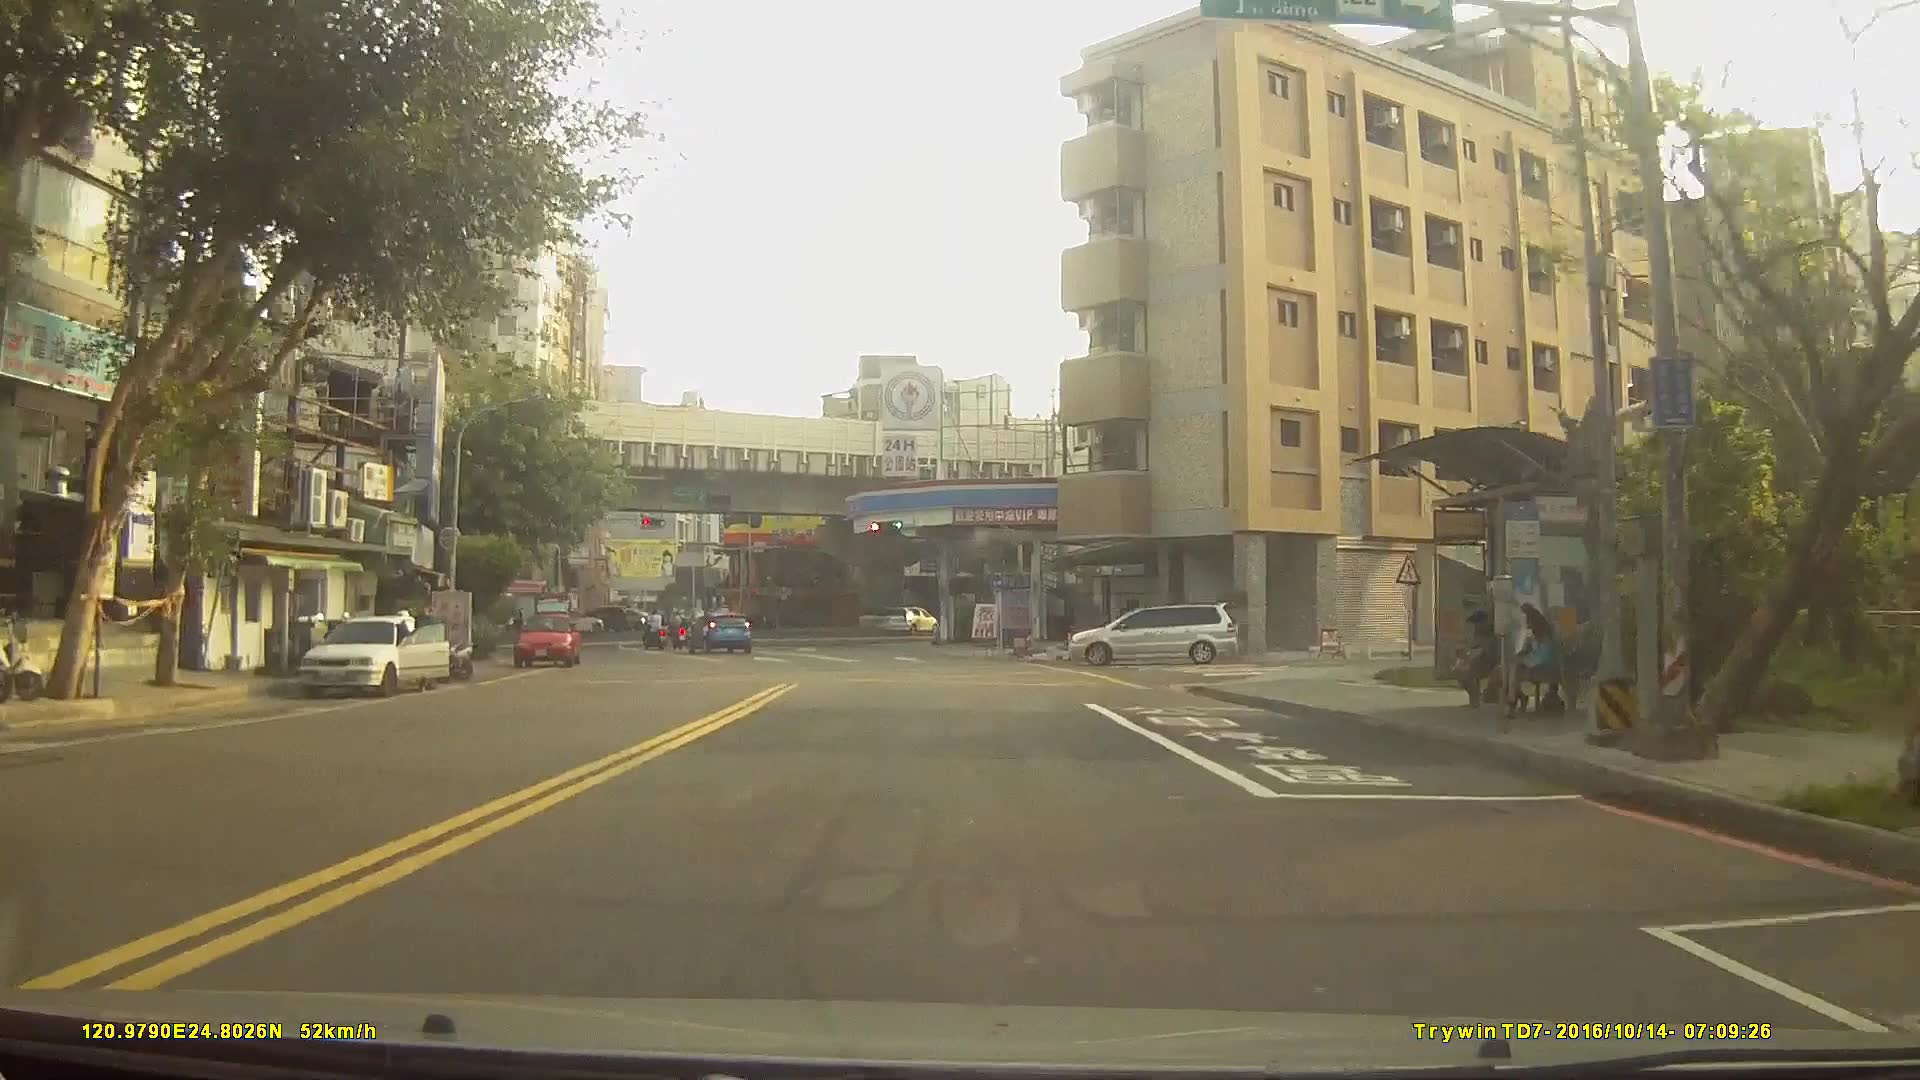pedestrian: (1508, 600, 1573, 713), (1454, 607, 1507, 703)
rider: (641, 610, 670, 653)
vehicle: (297, 611, 453, 696), (1062, 602, 1240, 664), (511, 609, 578, 666), (683, 609, 755, 654), (878, 605, 940, 635), (574, 604, 631, 634), (543, 606, 605, 633)
